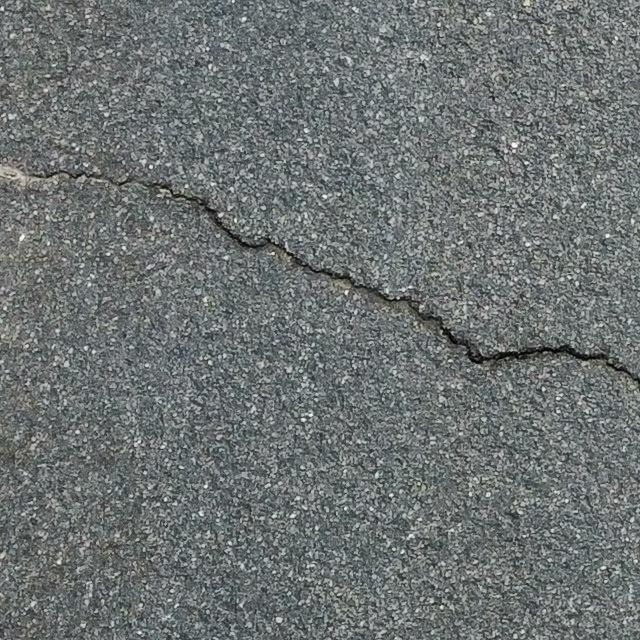TransverseCrack: (2, 164, 640, 383)
